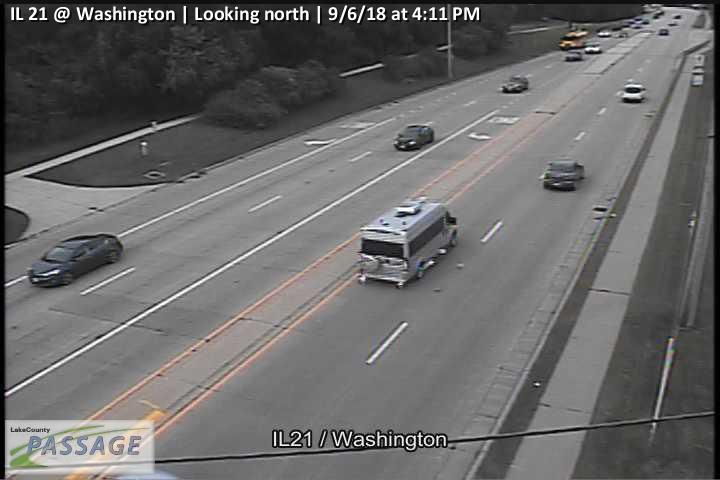Bus: (357, 197, 458, 288), (559, 30, 588, 49)
Sedan: (27, 233, 122, 287), (543, 158, 585, 190), (393, 124, 434, 151), (501, 74, 529, 92), (622, 82, 646, 102), (565, 49, 583, 61), (585, 41, 601, 53)
